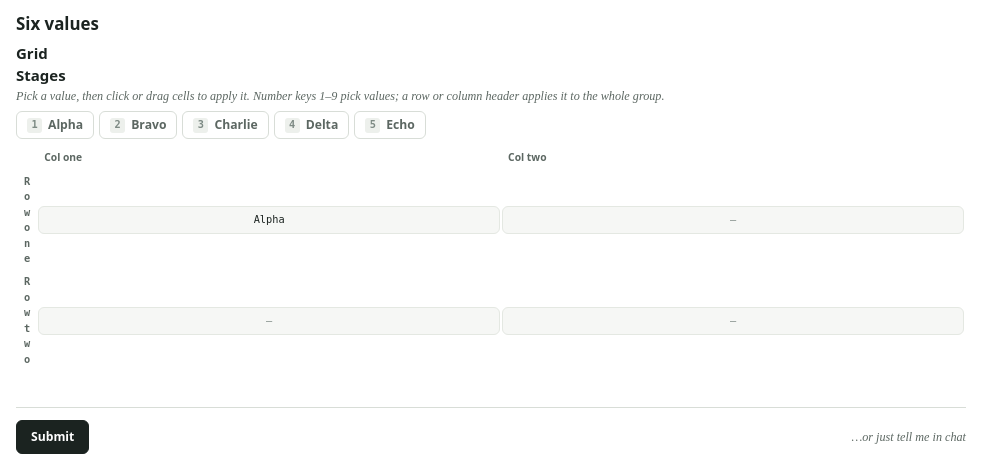
Scenario: paint mode › applies the selected value on click, and does nothing before one is picked
Press the mouse on the 1st button "–" at (733, 220), box [502,206,964,234]
Click the radio button labelled "3 Charlie".
click(226, 125)  # box [182,111,269,139]
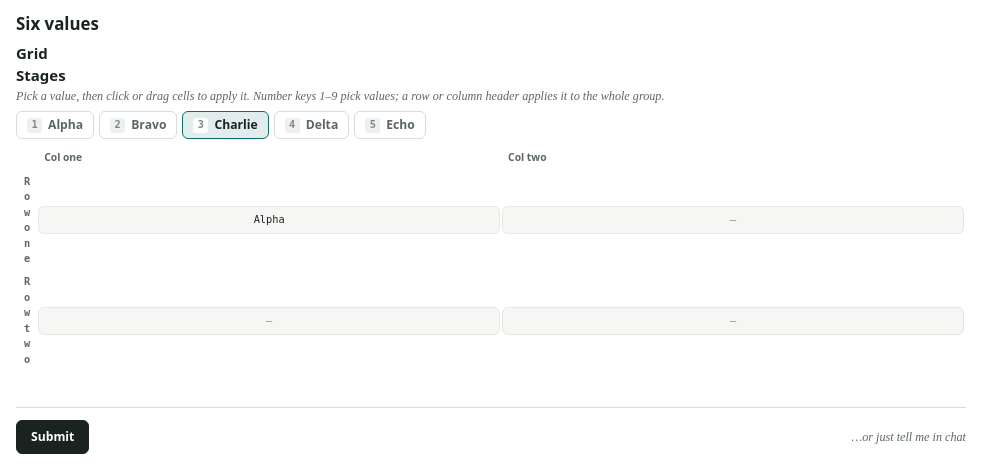
Press the mouse on the 1st button "–" at (733, 220), box [502,206,964,234]
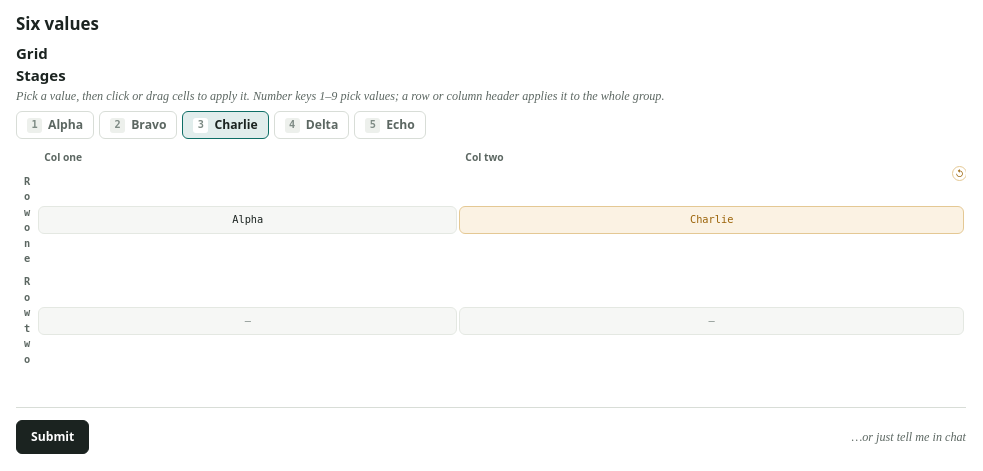
expect the button "Charlie" is shown: met, box [459,206,964,234]
